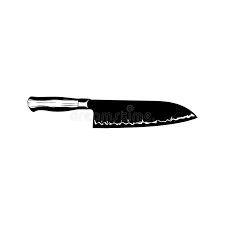Knife: (26, 95, 197, 128)
